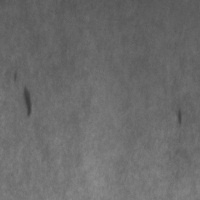inclusion: (11, 70, 34, 118), (174, 105, 186, 134)
